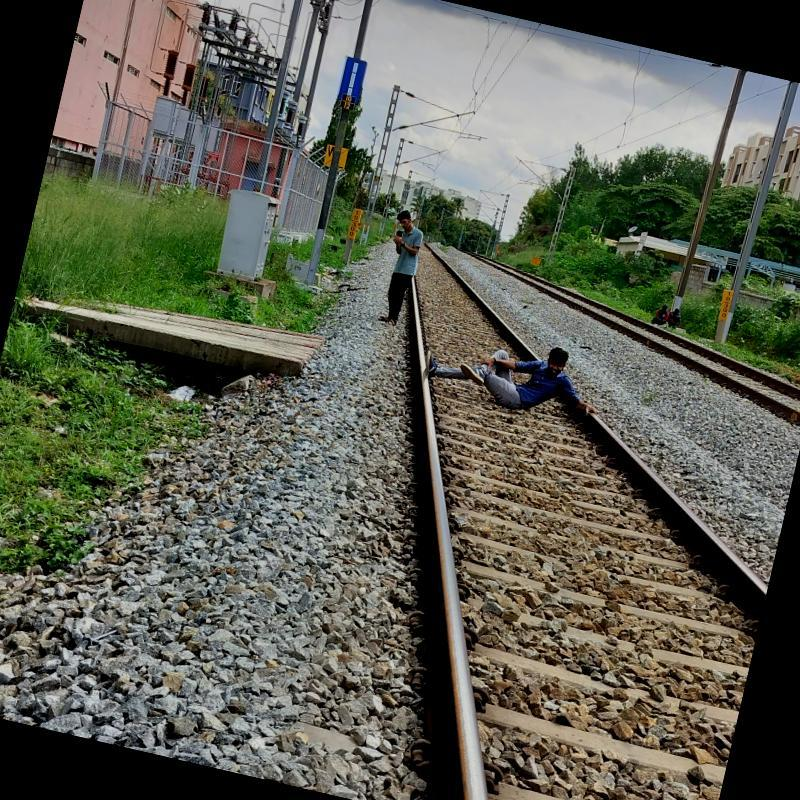sleeping: (409, 314, 587, 424)
